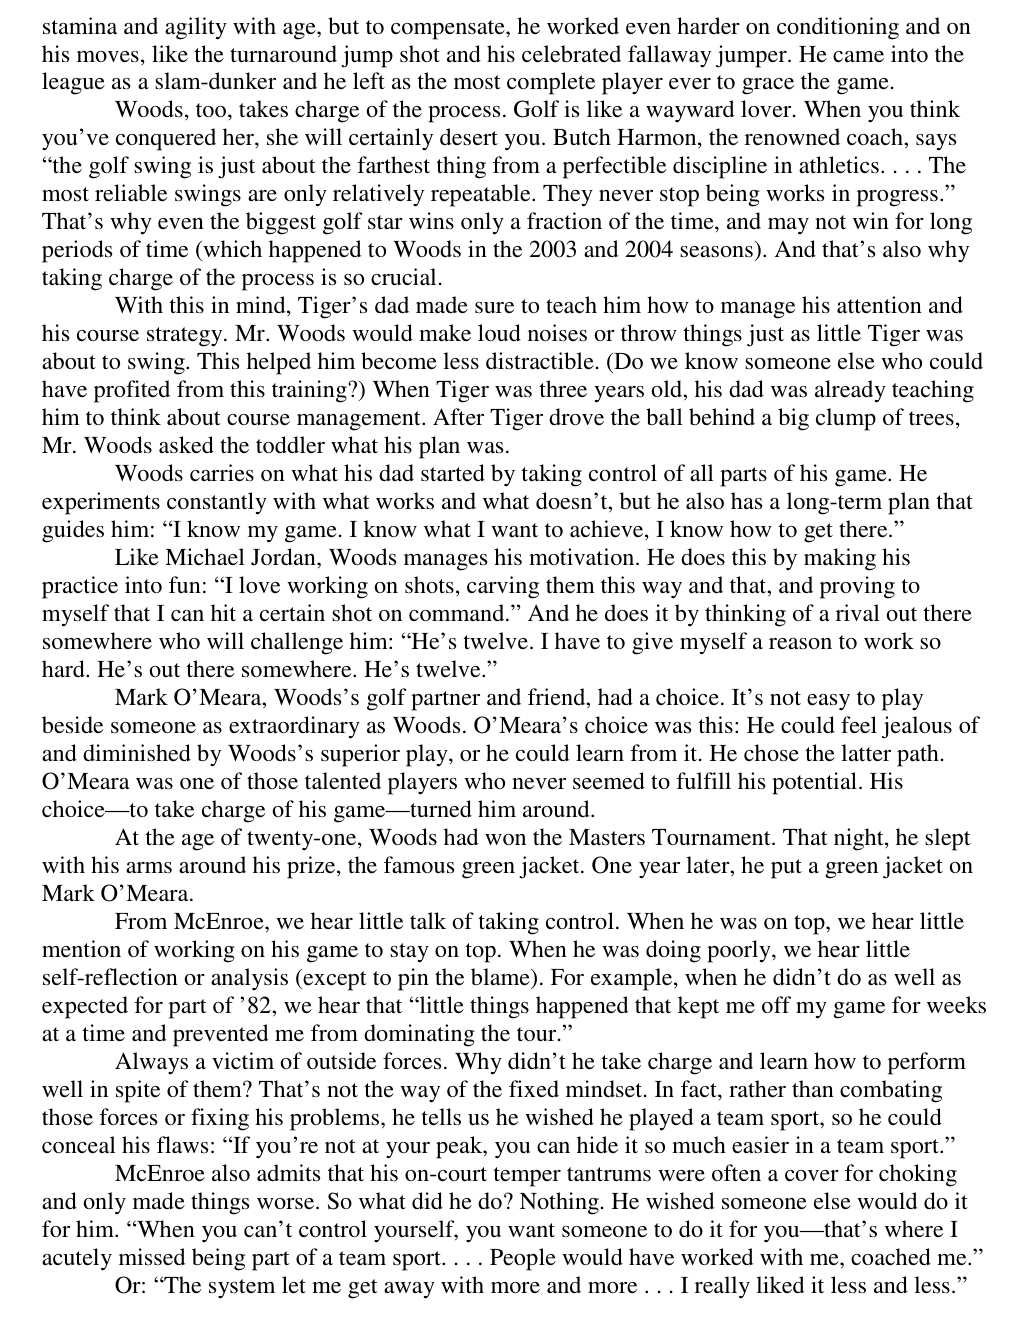latin: (34, 97, 977, 293), (27, 293, 985, 458), (24, 684, 986, 826), (25, 910, 986, 1052), (28, 1165, 986, 1300), (30, 550, 973, 684), (33, 1052, 975, 1163), (36, 458, 978, 550), (40, 12, 972, 97), (35, 826, 980, 909)
